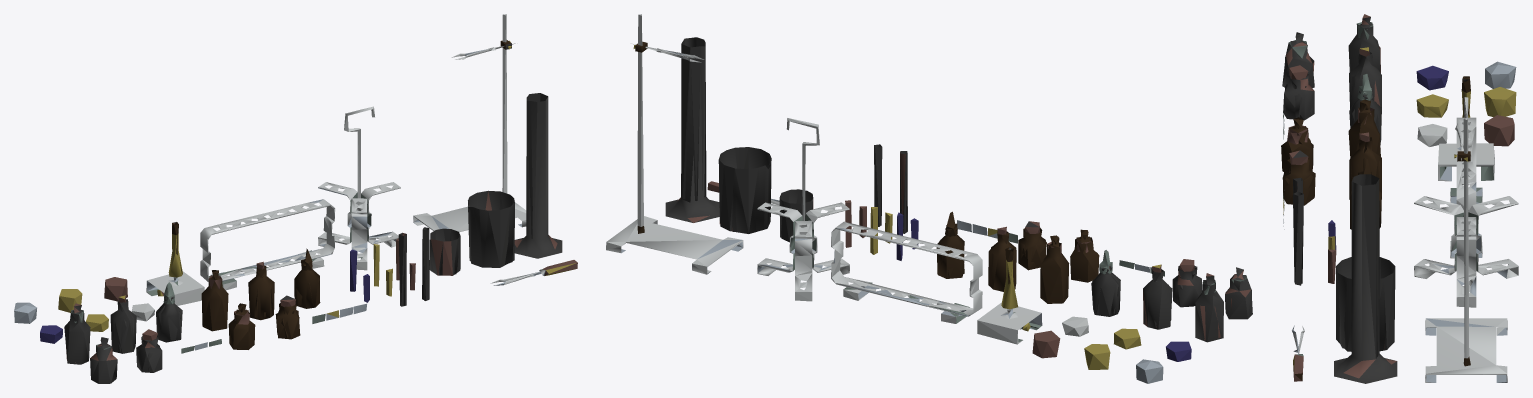
Rendered from chemistry-set.glb.
3 renders of one model, left to right at view 1: azimuth 30°, elevation 25°; view 2: azimuth 150°, elevation 25°; view 3: azimuth 270°, elevation 25°, orthographic. The views are drawn at different scales.
Visible parts, largest first — view 1: chemistry-set; view 2: chemistry-set; view 3: chemistry-set.
Part boxes in pixels (x1=…): chemistry-set: x1=14, y1=14, x2=577, y2=383; chemistry-set: x1=606, y1=14, x2=1252, y2=383; chemistry-set: x1=1281, y1=14, x2=1518, y2=383.
Bounding box in the file's own units: 1.08 × 0.4281 × 0.3537.
